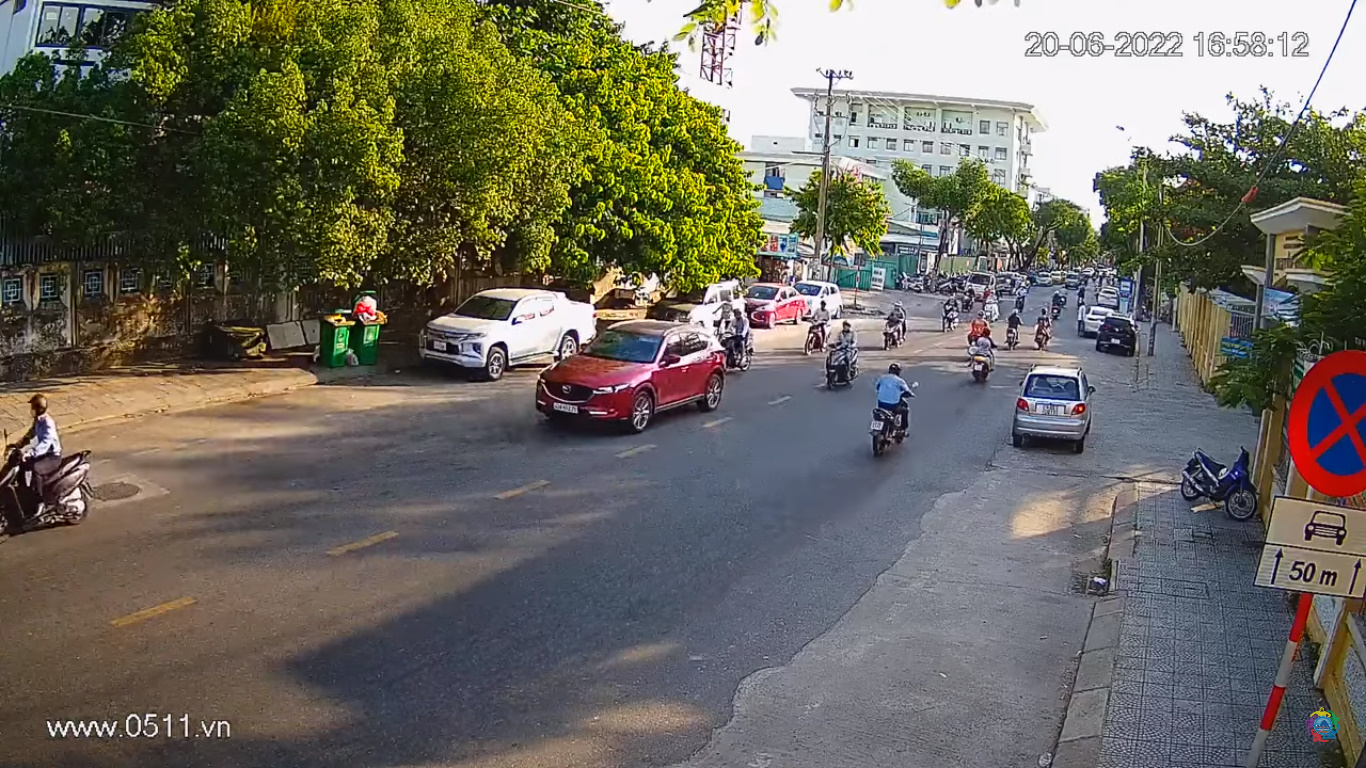car: (535, 319, 728, 443)
